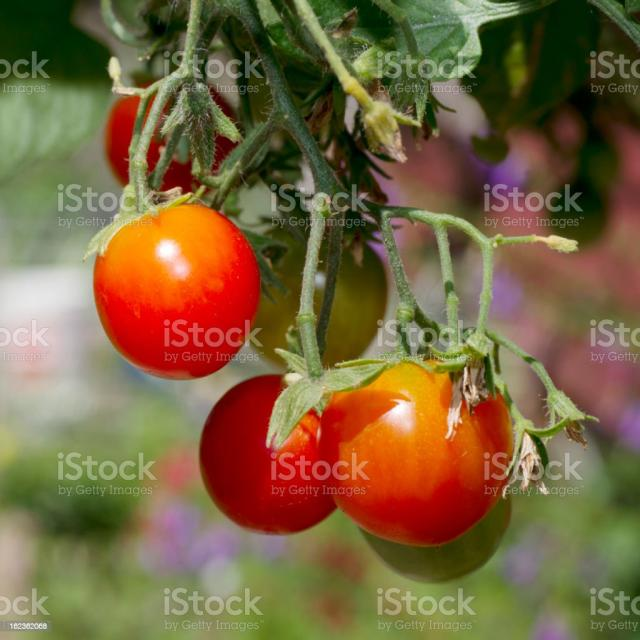level 2: (353, 448, 526, 598)
level 3: (235, 202, 398, 373)
level 5: (320, 354, 518, 546), (91, 198, 267, 385)
level 6: (195, 363, 349, 538), (100, 84, 249, 210)
